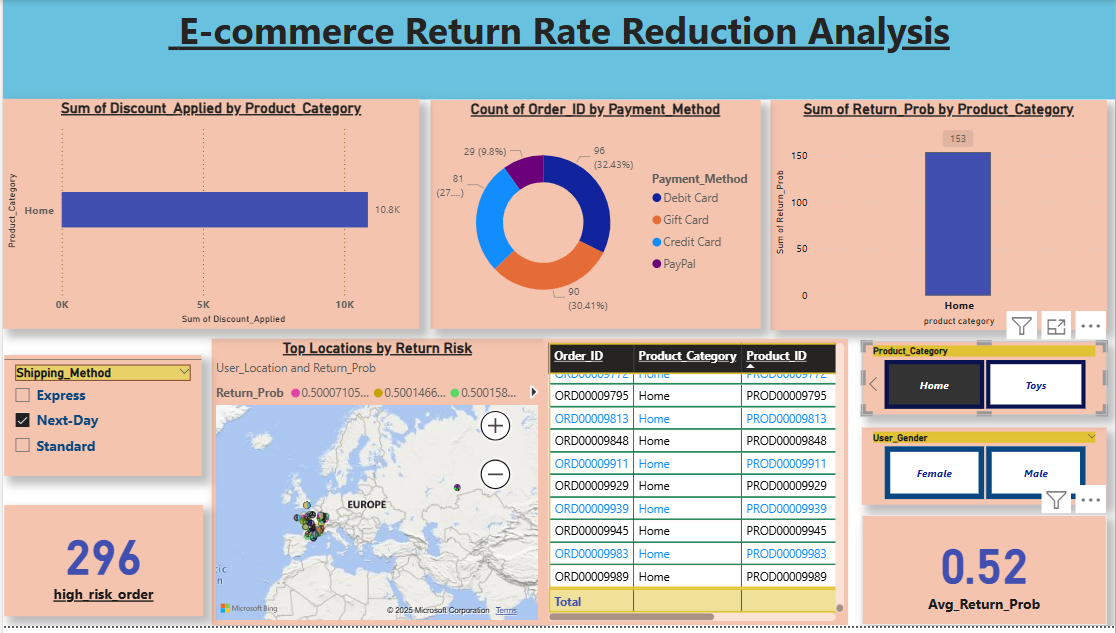

This screenshot's page, from the dashboard's own definition file:
{"tool":"powerbi","page":{"name":"Page 1","canvas":[1280,720],"ordinal":0},"visuals":[{"type":"columnChart","fields":{"Y":["Sum(high_risk_products.Return_Prob)"],"Category":["high_risk_products.Product_Category"]},"box":[883.3,115.1,387,265],"z":0},{"type":"textbox","box":[0,0,1280,114.3],"z":1000},{"type":"map","title":"Top Locations by Return Risk","fields":{"Category":["high_risk_products.User_Location"],"Series":["high_risk_products.Return_Prob"]},"box":[240.2,389.8,381.2,329.4],"z":2000},{"type":"donutChart","fields":{"Category":["high_risk_products.Payment_Method"],"Y":["CountNonNull(high_risk_products.Order_ID)"]},"box":[492,115.1,379.8,263.3],"z":3000},{"type":"slicer","fields":{"Values":["high_risk_products.User_Gender"]},"box":[988.3,492,282,89.2],"z":4000},{"type":"slicer","fields":{"Values":["high_risk_products.Product_Category"]},"box":[988.3,392.7,282,84.9],"z":5000},{"type":"slicer","fields":{"Values":["high_risk_products.Shipping_Method"]},"box":[1.4,408.5,227.3,139.5],"z":6000},{"type":"tableEx","fields":{"Values":["high_risk_products.Order_ID","high_risk_products.Product_Category","high_risk_products.Product_ID","Sum(high_risk_products.Return_Prob)","high_risk_products.User_Location"]},"box":[621.4,389.8,351,329.4],"z":7000},{"type":"card","fields":{"Values":["high_risk_products.high_risk_order"]},"box":[1.4,581.2,228.7,128],"z":8000},{"type":"card","fields":{"Values":["high_risk_products.Avg_Return_Prob"]},"box":[988.3,592.7,282,126.6],"z":9000},{"type":"barChart","fields":{"Y":["Sum(high_risk_products.Discount_Applied)"],"Category":["high_risk_products.Product_Category"]},"box":[0,113.6,479,264.7],"z":9001}]}

Visuals, with their boxes in screenshot pixels (x1, y1, x2, y2), scaled from the page's 1280x720 canvas onto the 1116x633 screenshot:
columnChart - Sum(high_risk_products.Return_Prob) x high_risk_products.Product_Category: region(770, 101, 1108, 334)
textbox: region(0, 0, 1115, 100)
"Top Locations by Return Risk" map: region(209, 343, 542, 632)
donutChart - high_risk_products.Payment_Method x CountNonNull(high_risk_products.Order_ID): region(429, 101, 760, 333)
slicer - high_risk_products.User_Gender: region(862, 433, 1108, 511)
slicer - high_risk_products.Product_Category: region(862, 345, 1108, 420)
slicer - high_risk_products.Shipping_Method: region(1, 359, 199, 482)
tableEx - high_risk_products.Order_ID x high_risk_products.Product_Category: region(542, 343, 848, 632)
card - high_risk_products.high_risk_order: region(1, 511, 201, 624)
card - high_risk_products.Avg_Return_Prob: region(862, 521, 1108, 632)
barChart - Sum(high_risk_products.Discount_Applied) x high_risk_products.Product_Category: region(0, 100, 418, 333)
